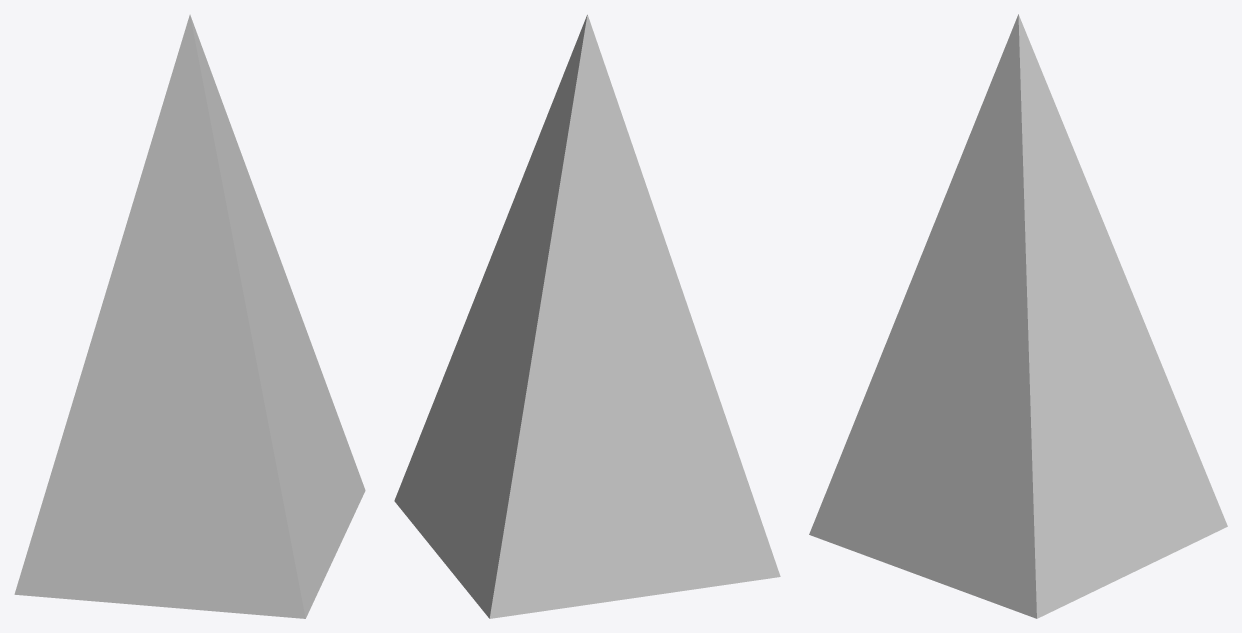
File: button.glb
3 renders of one model, left to right at view 1: azimuth 30°, elevation 25°; view 2: azimuth 150°, elevation 25°; view 3: azimuth 270°, elevation 25°, orthographic. The views are drawn at different scales.
Parts seen in each view (by area): view 1: mesh_id27; view 2: mesh_id27; view 3: mesh_id27.
Part boxes in pixels (left/top/right/bottom): mesh_id27: left=14, top=14, right=365, bottom=618; mesh_id27: left=394, top=14, right=780, bottom=618; mesh_id27: left=809, top=14, right=1227, bottom=618.
Size of the model in its own units: 0.1268 by 0.1731 by 0.1272.
Materials: 1 (1 with a texture image).
